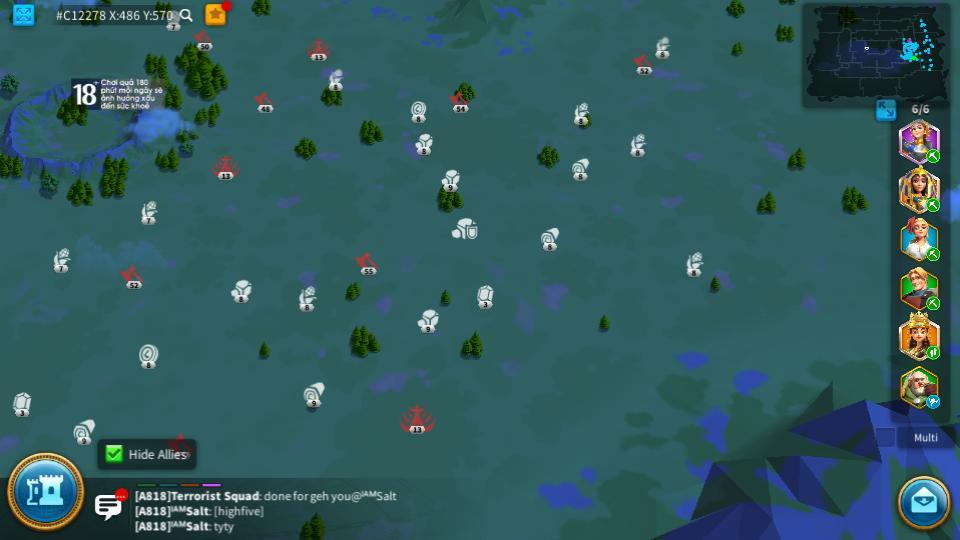gem-z-out: (11, 392, 33, 415), (475, 285, 495, 307)
march_farming: (924, 197, 939, 212)
march_idle: (925, 394, 942, 408)
march_marching: (926, 345, 941, 359), (925, 150, 942, 162), (925, 297, 942, 309), (925, 248, 941, 260)
